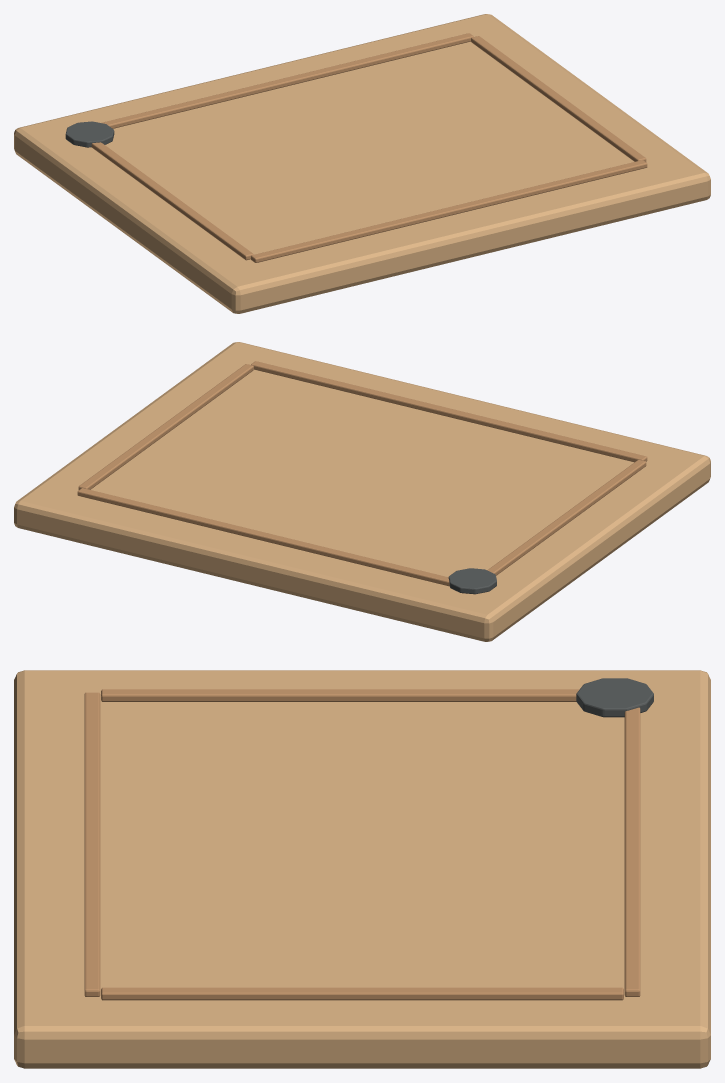
Rendered from board.glb.
The picture shows the model from 3 angles, top to bottom: view 1: azimuth 30°, elevation 25°; view 2: azimuth 150°, elevation 25°; view 3: azimuth 270°, elevation 25°; orthographic projection. The views are drawn at different scales.
Parts seen in each view (by area): view 1: boardSlab, grooveFront, grooveBack, grooveRight, grooveLeft, boardHole; view 2: boardSlab, grooveFront, grooveBack, grooveRight, grooveLeft, boardHole; view 3: boardSlab, grooveRight, grooveLeft, grooveFront, grooveBack, boardHole.
Boxes of the visible parts, <box> form: boardSlab: <box>14,14,710,313</box>; grooveFront: <box>251,160,647,262</box>; grooveBack: <box>101,33,473,128</box>; grooveRight: <box>471,36,646,161</box>; grooveLeft: <box>91,142,253,260</box>; boardHole: <box>65,121,114,147</box>; boardSlab: <box>14,342,710,641</box>; grooveFront: <box>251,361,647,462</box>; grooveBack: <box>77,488,449,586</box>; grooveRight: <box>78,364,253,489</box>; grooveLeft: <box>487,460,646,575</box>; boardHole: <box>448,568,496,594</box>; boardSlab: <box>14,670,710,1068</box>; grooveRight: <box>101,987,623,1000</box>; grooveLeft: <box>101,689,579,701</box>; grooveFront: <box>84,692,100,996</box>; grooveBack: <box>624,707,640,996</box>; boardHole: <box>576,678,653,717</box>.
Bounding box in the file's own units: 1.05 × 0.07 × 0.85.
